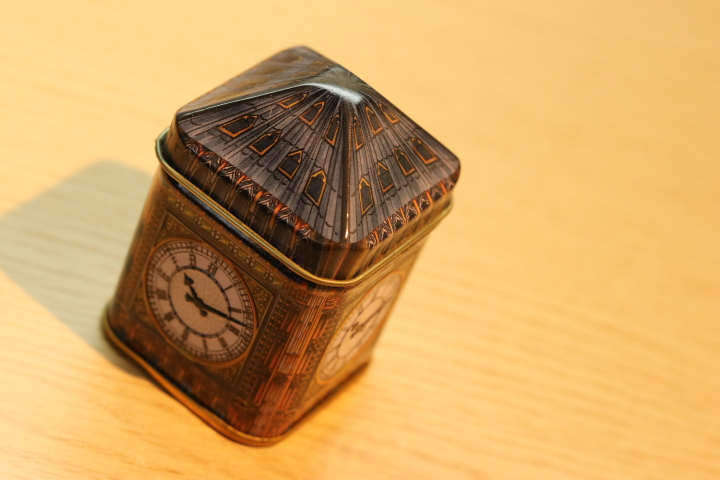Big Ben: (82, 30, 476, 462)
